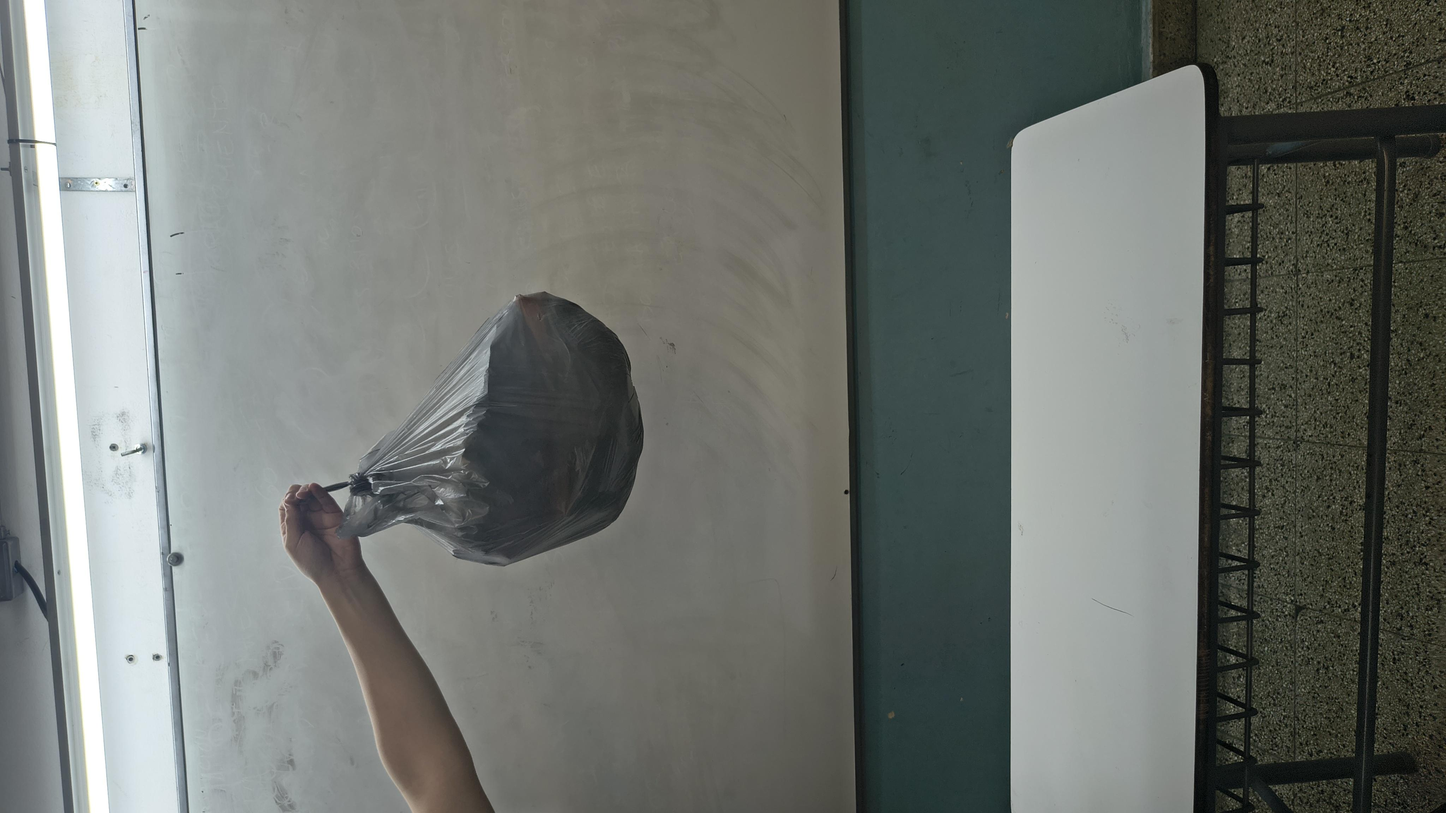Garbage: (402, 169, 1098, 387)
